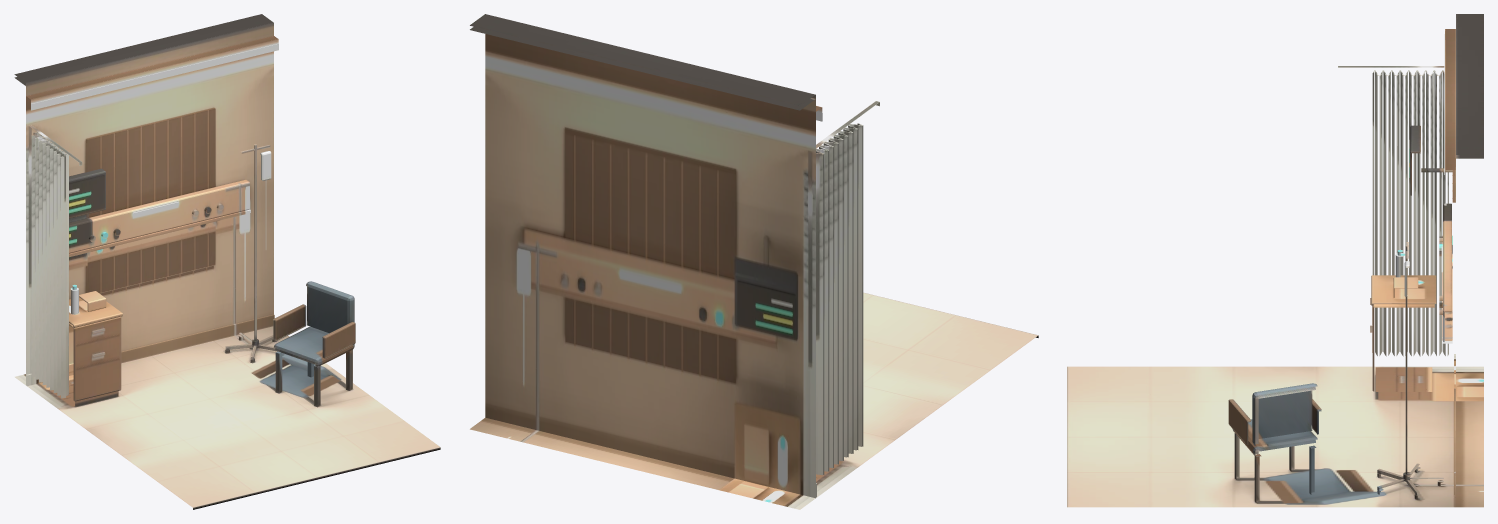
File: bay-backwall.glb
The picture shows the model from 3 angles, left to right: view 1: azimuth 30°, elevation 25°; view 2: azimuth 150°, elevation 25°; view 3: azimuth 270°, elevation 25°; orthographic projection. The views are drawn at different scales.
Visible parts, largest first — view 1: bayBackwall; view 2: bayBackwall; view 3: bayBackwall.
Boxes of the visible parts, <box> form: bayBackwall: <box>14,14,440,509</box>; bayBackwall: <box>470,14,1038,509</box>; bayBackwall: <box>1067,14,1483,507</box>.
Bounding box in the file's own units: 2.4 × 2.82 × 3.
Materials: 1 (1 with a texture image).
